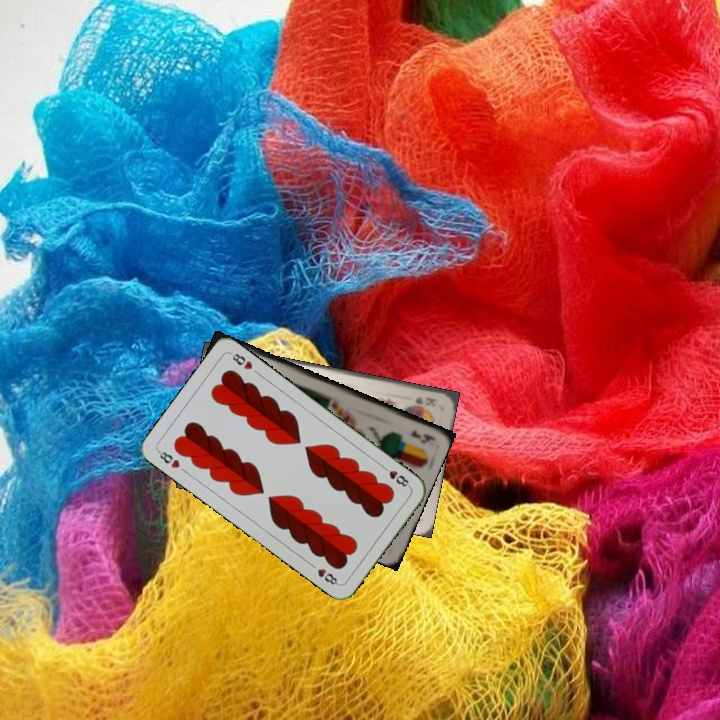EK: (407, 425, 434, 445)
H8: (378, 461, 413, 490), (154, 446, 182, 471)
SK: (411, 393, 439, 407)
